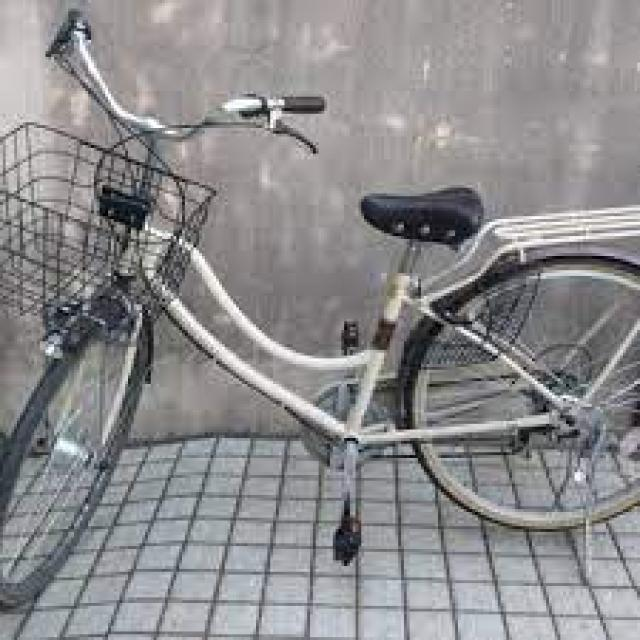basket: (0, 122, 217, 347)
